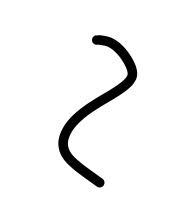a: (75, 22, 150, 118)
